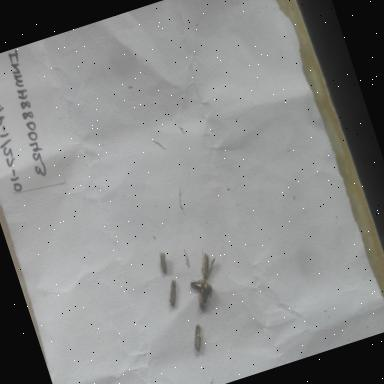pbw: (185, 320, 210, 354), (195, 248, 220, 280), (160, 276, 184, 309), (192, 281, 218, 310), (152, 248, 172, 276), (188, 274, 209, 292)
